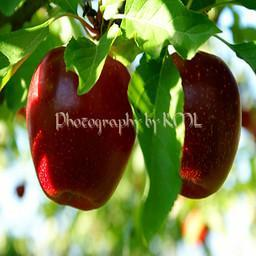apple: (23, 46, 137, 213), (166, 49, 243, 200)
